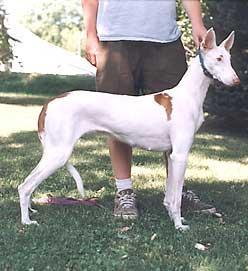Ibizan_hound: (17, 26, 241, 233)
